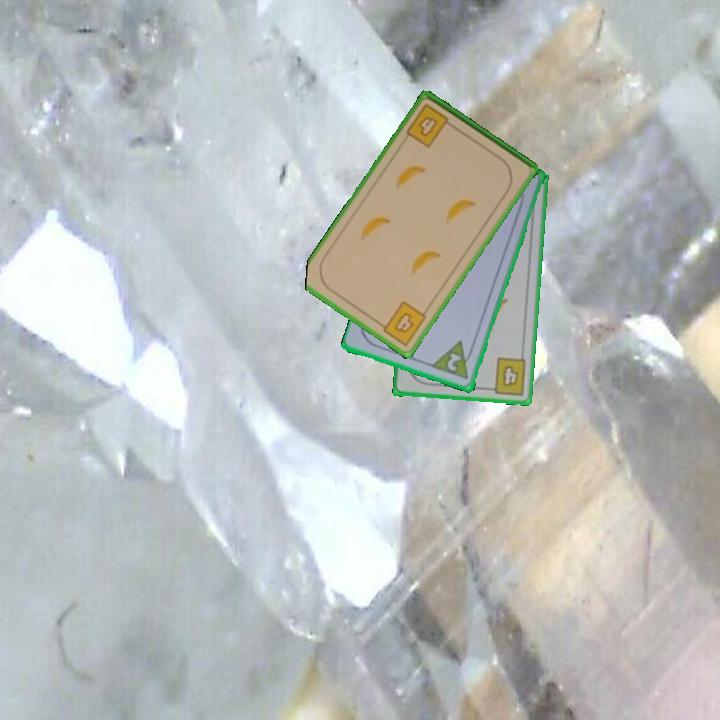2p: (429, 337, 477, 383)
4b: (402, 100, 458, 151), (375, 297, 429, 349), (483, 354, 529, 398)
